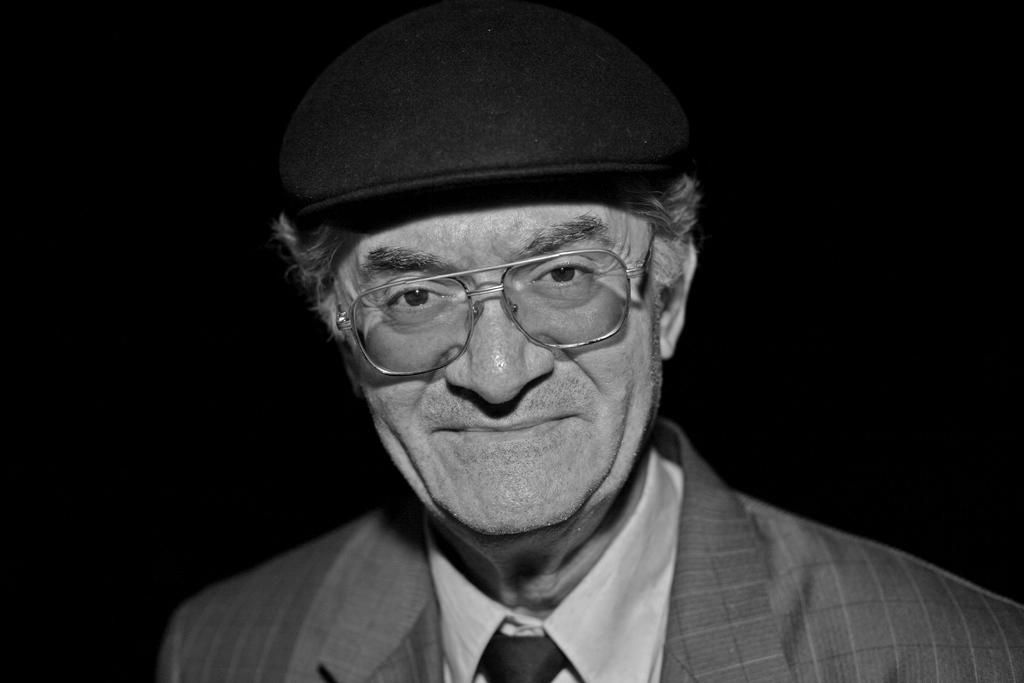Hat: (274, 0, 682, 221)
